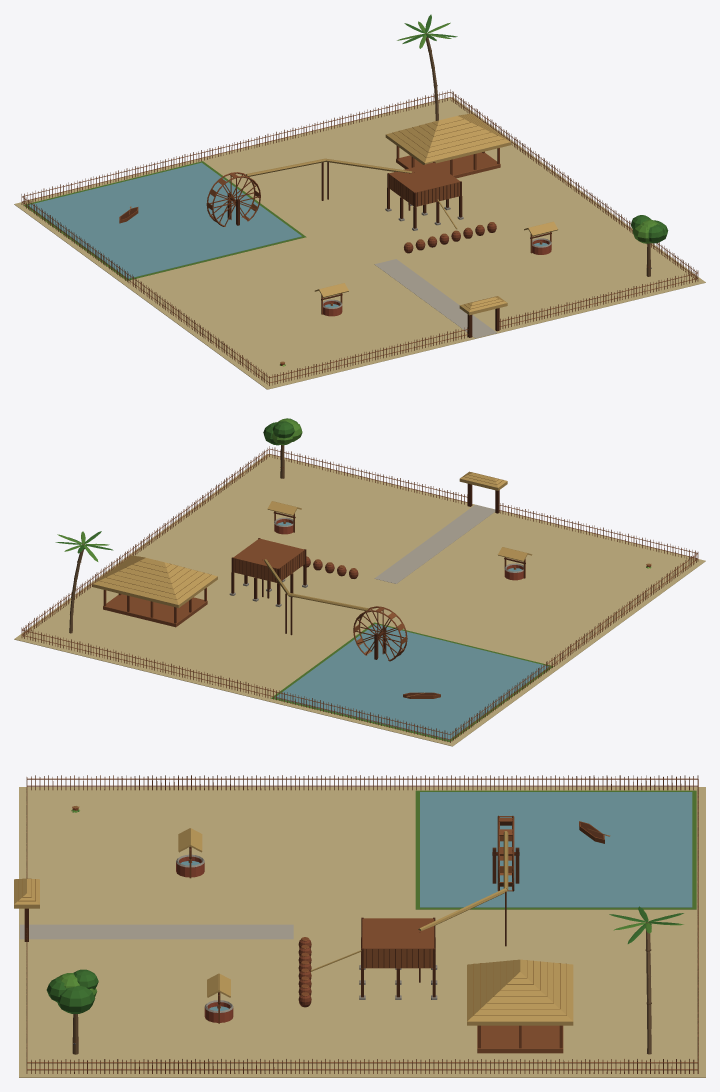
File: water_works.glb
The picture shows the model from 3 angles, top to bottom: view 1: azimuth 30°, elevation 25°; view 2: azimuth 150°, elevation 25°; view 3: azimuth 270°, elevation 25°; orthographic projection. The views are drawn at different scales.
Visible parts, largest first — view 1: body; view 2: body; view 3: body.
Part boxes in pixels (bbox=[...]): body: bbox=[14, 14, 705, 389]; body: bbox=[14, 418, 705, 746]; body: bbox=[14, 775, 705, 1077].
Size of the model in its own units: 47.9 by 10.57 by 48.25.
